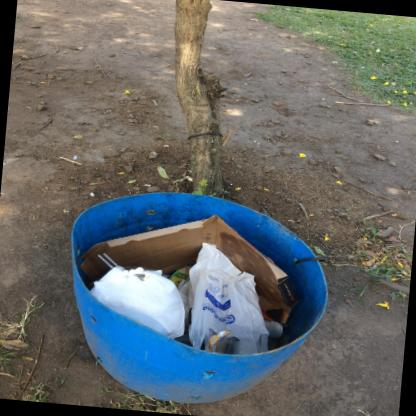Paper: (78, 215, 301, 324), (168, 266, 191, 288), (264, 320, 283, 338), (144, 185, 151, 187)
Plastic: (178, 243, 270, 354), (90, 266, 185, 339), (208, 330, 233, 354), (97, 254, 114, 269), (103, 253, 119, 267)
